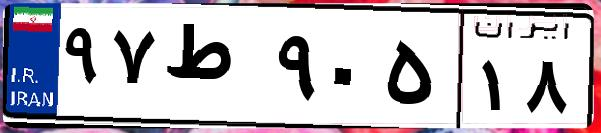0: (330, 28, 385, 110)
1: (475, 38, 525, 113)
5: (385, 28, 445, 110)
7: (110, 28, 158, 98)
8: (525, 38, 570, 115)
9: (270, 28, 330, 110), (57, 26, 110, 100)
ط: (158, 20, 270, 120)
